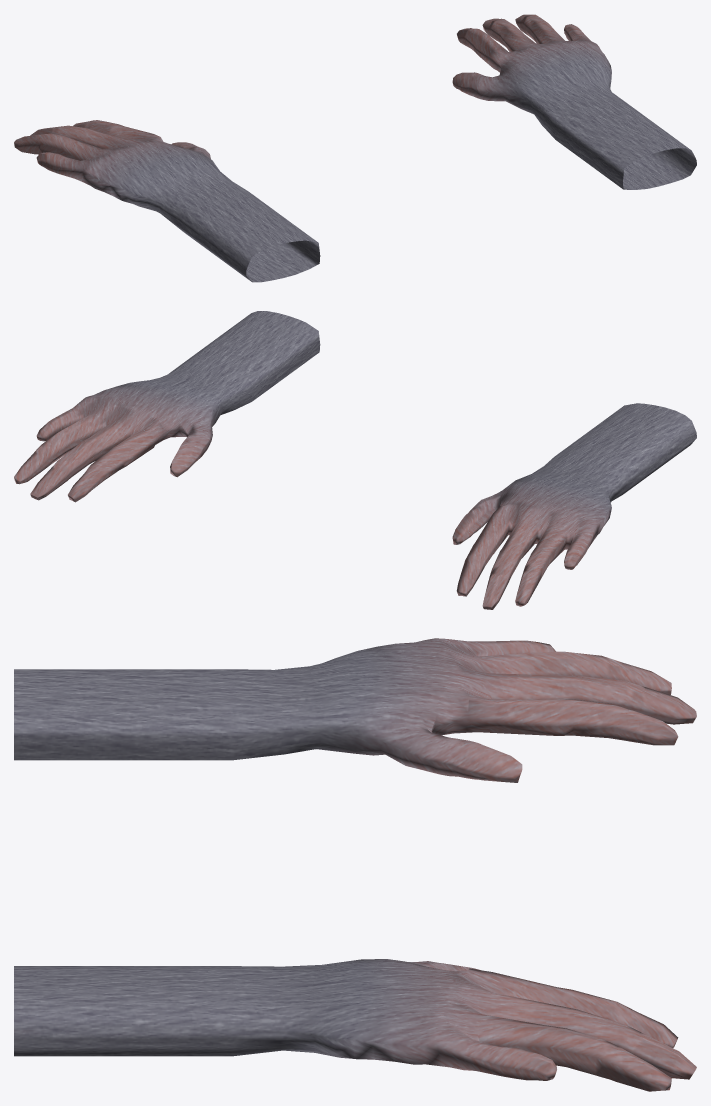
File: rat hands harden.fbx
3 renders of one model, top to bottom at view 1: azimuth 30°, elevation 25°; view 2: azimuth 150°, elevation 25°; view 3: azimuth 270°, elevation 25°, orthographic. The views are drawn at different scales.
Parts seen in each view (by area): view 1: rat_hand_L, rat_hand_R; view 2: rat_hand_R, rat_hand_L; view 3: rat_hand_L, rat_hand_R.
Part boxes in pixels (bbox=[...]): rat_hand_L: bbox=[14, 120, 320, 282]; rat_hand_R: bbox=[452, 14, 696, 189]; rat_hand_R: bbox=[14, 311, 320, 502]; rat_hand_L: bbox=[452, 403, 696, 609]; rat_hand_L: bbox=[14, 638, 696, 782]; rat_hand_R: bbox=[14, 959, 696, 1091].
Size of the model in its own units: 2.38 by 0.192 by 1.62.
